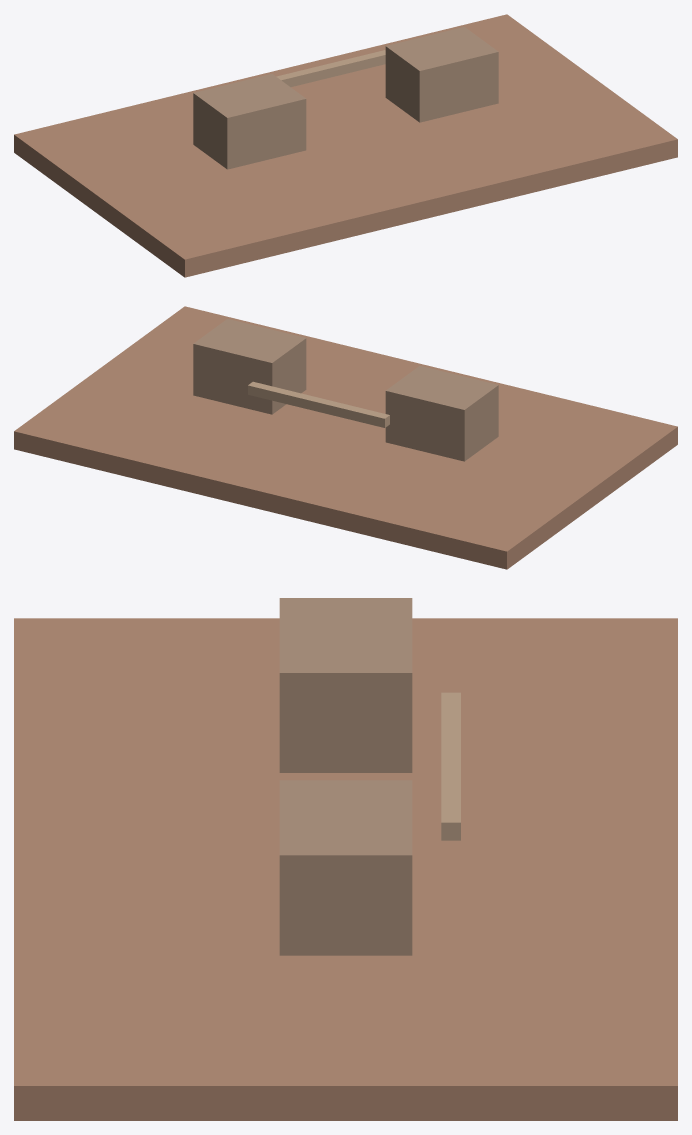
3 renders of one model, top to bottom at view 1: azimuth 30°, elevation 25°; view 2: azimuth 150°, elevation 25°; view 3: azimuth 270°, elevation 25°, orthographic. The views are drawn at different scales.
Parts seen in each view (by area): view 1: substrate: audit probe only, [02] subsystem 2, [01] subsystem 1, flow 1 -> 2; view 2: substrate: audit probe only, [01] subsystem 1, [02] subsystem 2, flow 1 -> 2; view 3: substrate: audit probe only, [02] subsystem 2, [01] subsystem 1, flow 1 -> 2.
Part boxes in pixels (x1,y1,x2,y2): substrate: audit probe only: (14, 14, 677, 277); [02] subsystem 2: (385, 27, 498, 122); [01] subsystem 1: (193, 74, 306, 169); flow 1 -> 2: (276, 50, 385, 87); substrate: audit probe only: (14, 306, 677, 569); [01] subsystem 1: (385, 366, 498, 461); [02] subsystem 2: (193, 319, 306, 414); flow 1 -> 2: (248, 381, 389, 427); substrate: audit probe only: (14, 618, 677, 1120); [02] subsystem 2: (279, 780, 412, 955); [01] subsystem 1: (279, 598, 412, 772); flow 1 -> 2: (441, 692, 460, 840).
Bounding box in the file's own units: 10 × 1.6 × 6.
